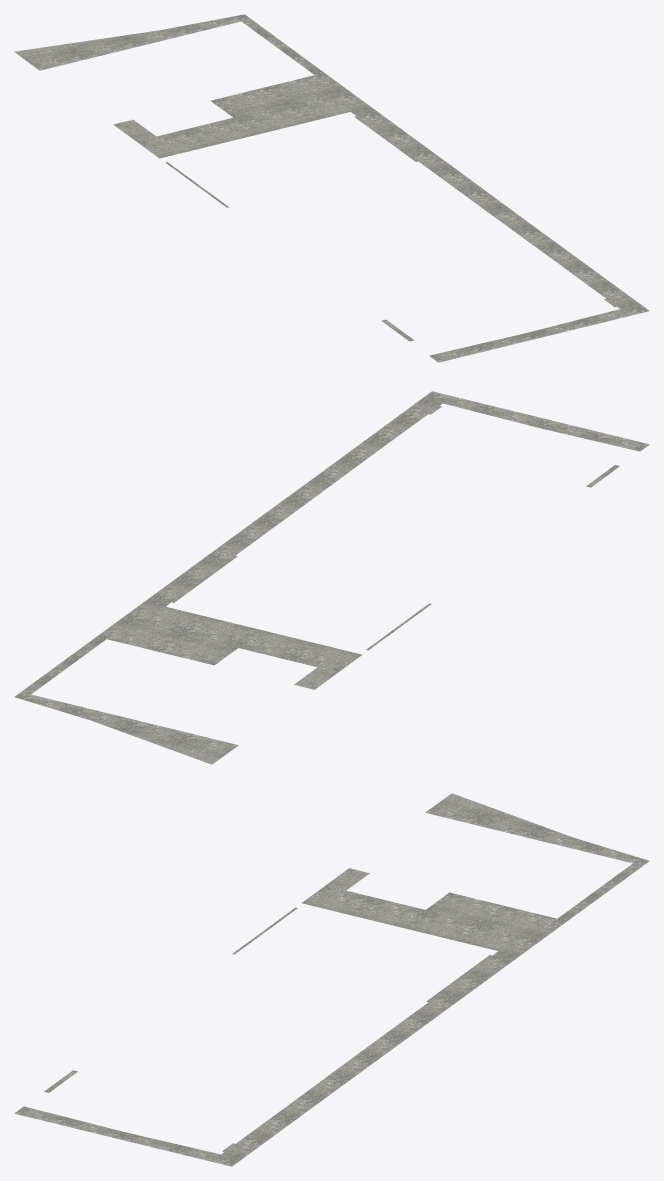
Rendered from cock_sfn07.obj.
The picture shows the model from 3 angles, top to bottom: view 1: azimuth 30°, elevation 25°; view 2: azimuth 150°, elevation 25°; view 3: azimuth 330°, elevation 25°; orthographic projection. The views are drawn at different scales.
Visible parts, largest first — view 1: cock_sfn07; view 2: cock_sfn07; view 3: cock_sfn07.
Part boxes in pixels (left/top/right/bottom): cock_sfn07: left=14, top=14, right=649, bottom=362; cock_sfn07: left=14, top=391, right=649, bottom=764; cock_sfn07: left=14, top=793, right=649, bottom=1166.
Bounding box in the file's own units: 21.15 × 0.1041 × 73.49.
1 material, 1 textured.
